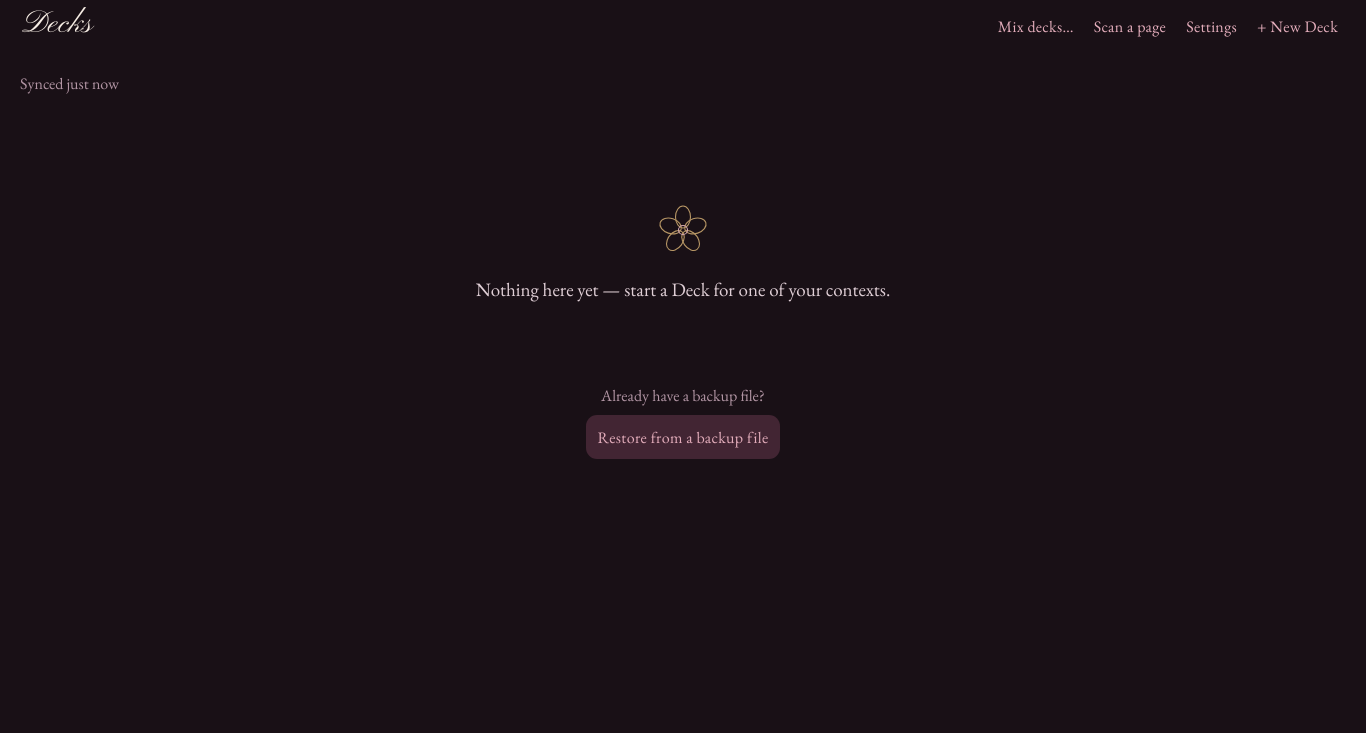
Test: App wired to Diagnostics (T039) › reads what the clip cache is holding when Settings opens, and states it
Click the button with test id "open-settings" at x=1212, y=26, box [1178, 4, 1245, 48]
(page scrolled)
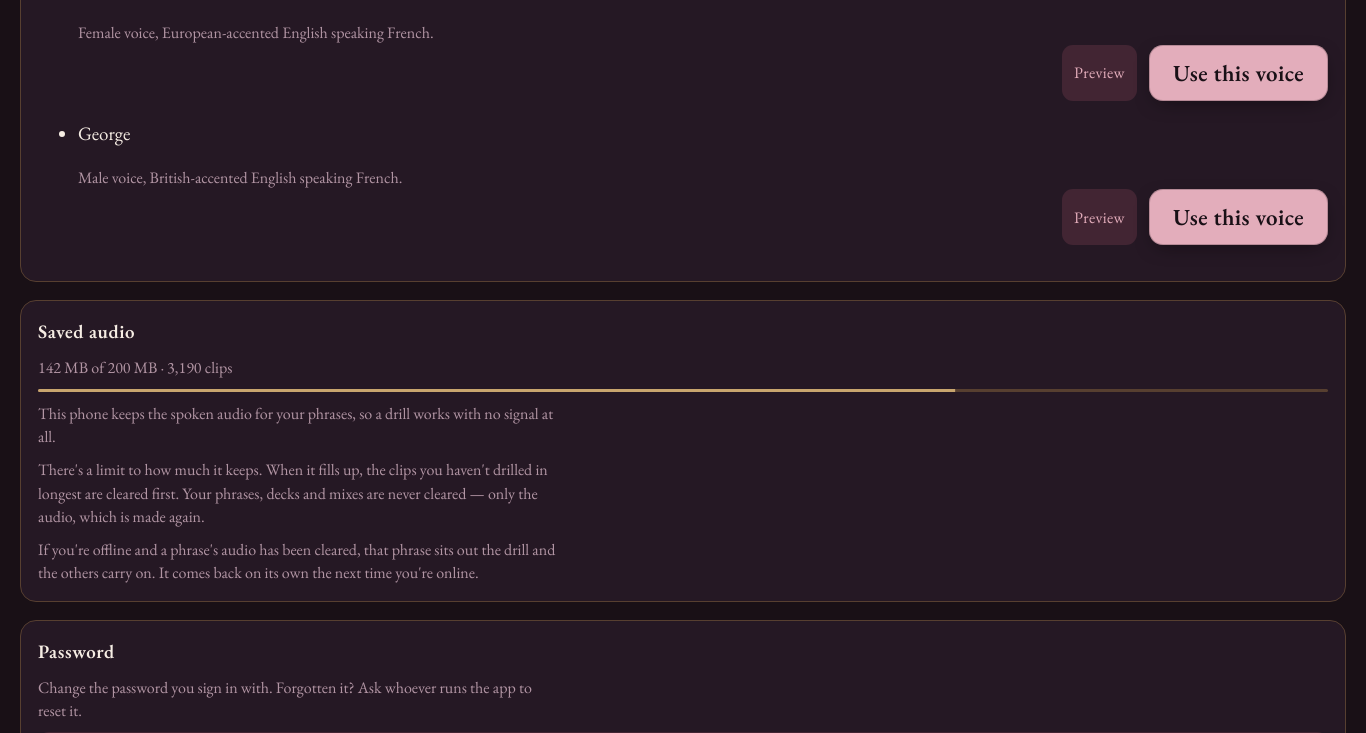
Now the text with test id "saved-audio-usage" shows "142 MB", box [38, 357, 232, 378]
Now the text with test id "saved-audio-usage" shows "200 MB", box [38, 357, 232, 378]
